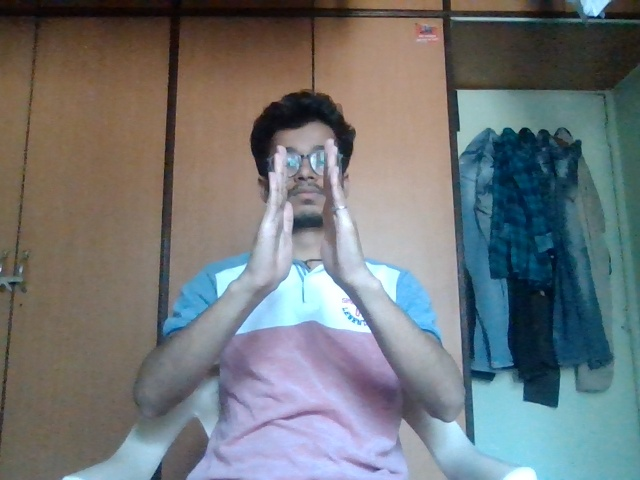morning: (250, 140, 376, 284)
